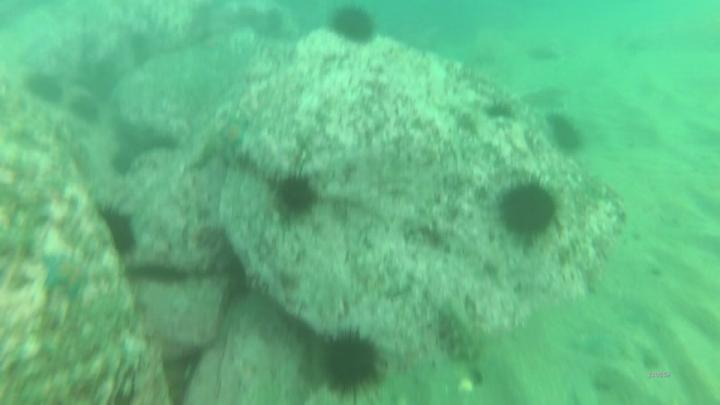echinus: (320, 328, 383, 399), (496, 180, 558, 245), (273, 172, 320, 220), (100, 205, 140, 257), (331, 6, 377, 45), (547, 113, 587, 154), (27, 73, 61, 104), (71, 92, 97, 123), (112, 147, 135, 176)
starfish: (40, 251, 93, 299), (221, 114, 252, 150)
